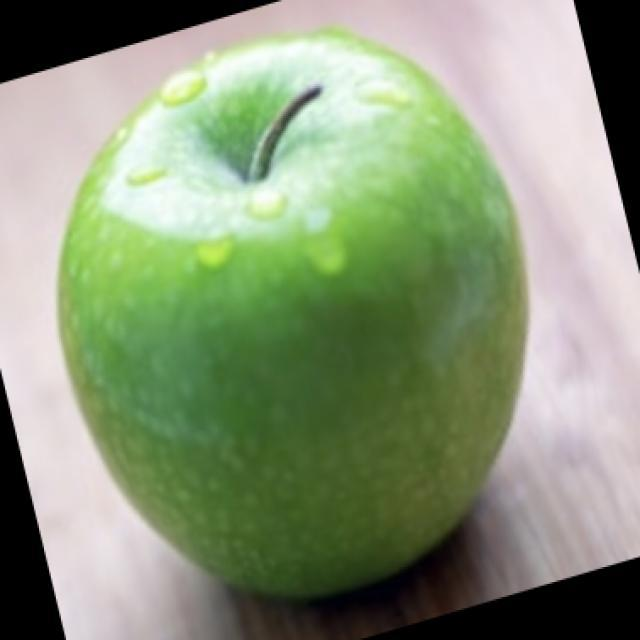Fresh Apple: (40, 41, 515, 592)
